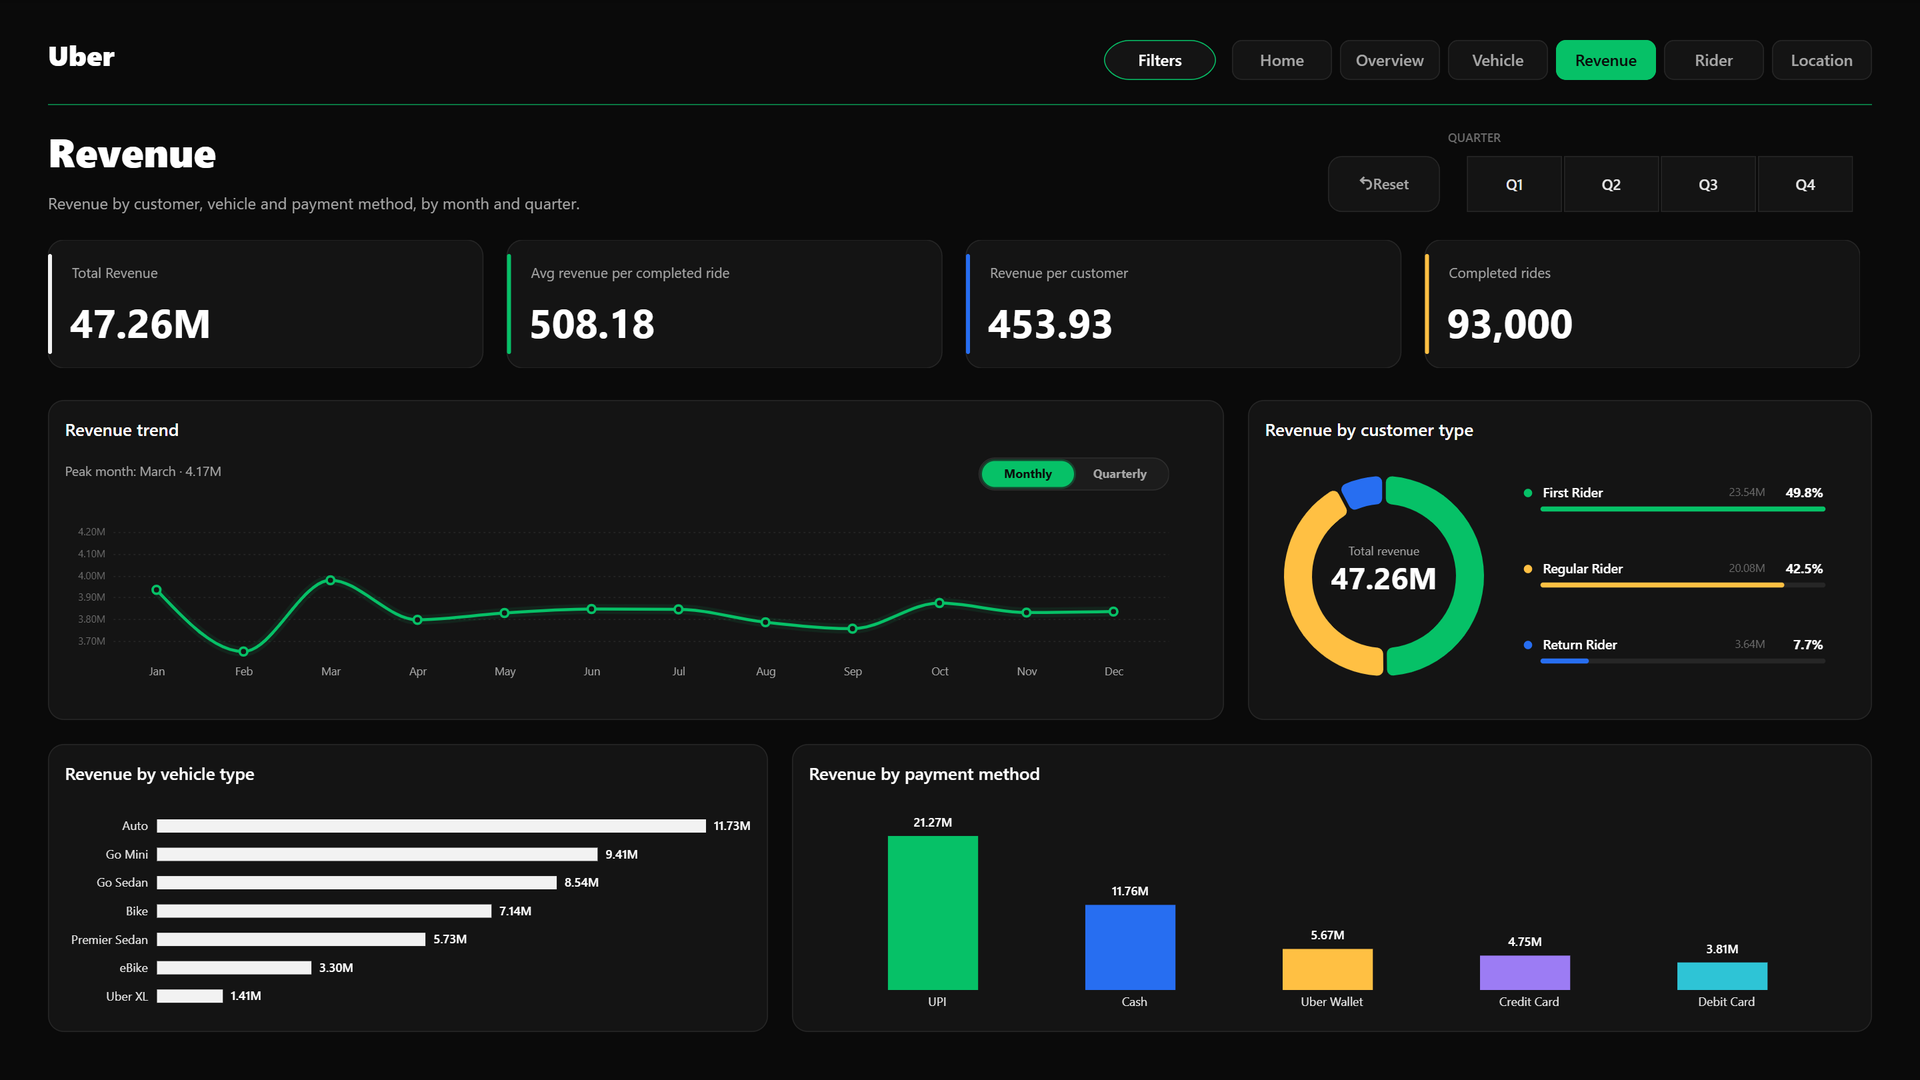

Layout of this report page (visuals, bound fields, positions):
{"tool":"powerbi","page":{"name":"Revenue","canvas":[1920,1080],"ordinal":3},"visuals":[{"type":"textbox","box":[48,36,200,48],"z":100},{"type":"actionButton","box":[1232,40,100,40],"z":200},{"type":"actionButton","box":[1340,40,100,40],"z":300},{"type":"actionButton","box":[1448,40,100,40],"z":400},{"type":"actionButton","box":[1556,40,100,40],"z":500},{"type":"actionButton","box":[1664,40,100,40],"z":600},{"type":"actionButton","box":[1772,40,100,40],"z":700},{"type":"shape","box":[48,104,1824,1],"z":800},{"type":"textbox","box":[48,124,640,68],"z":900},{"type":"textbox","box":[48,192,640,28],"z":1000},{"type":"actionButton","box":[1328,156,112,56],"z":1100},{"type":"textbox","box":[1448,128,300,24],"z":1200},{"type":"slicer","fields":{"Values":["Dim_Date.Quarter"]},"box":[1448,156,424,56],"z":1300},{"type":"deneb7E15AEF80B9E4D4F8E12924291ECE89A","fields":{"dataset":["# Measures.Revenue","# Measures.Completed Bookings","# Measures.Total Customers"]},"box":[48,240,1824,136],"z":1400},{"type":"deneb7E15AEF80B9E4D4F8E12924291ECE89A","title":"Revenue trend","fields":{"dataset":["Dim_Date.Month Name","Dim_Date.Month Number","Dim_Date.Quarter","# Measures.Revenue"]},"box":[48,400,1176,320],"z":1500},{"type":"deneb7E15AEF80B9E4D4F8E12924291ECE89A","title":"Revenue by customer type","fields":{"dataset":["Dim_Customer.Customer Type","# Measures.Revenue"]},"box":[1248,400,624,320],"z":1600},{"type":"clusteredBarChart","title":"Revenue by vehicle type","fields":{"Category":["Dim_Vehicle.Vehicle Type"],"Y":["# Measures.Revenue"]},"box":[48,744,720,288],"z":1700},{"type":"clusteredColumnChart","title":"Revenue by payment method","fields":{"Category":["Dim_Payment.Payment Method"],"Y":["# Measures.Revenue"]},"box":[792,744,1080,288],"z":1800},{"type":"actionButton","box":[1104,40,112,40],"z":90010}]}

Visuals, with their boxes in screenshot pixels (x1, y1, x2, y2), scaled from the page's 1920x1080 canvas onto the 1920x1080 screenshot:
textbox: 48:36:248:84
actionButton: 1232:40:1332:80
actionButton: 1340:40:1440:80
actionButton: 1448:40:1548:80
actionButton: 1556:40:1656:80
actionButton: 1664:40:1764:80
actionButton: 1772:40:1872:80
shape: 48:104:1872:105
textbox: 48:124:688:192
textbox: 48:192:688:220
actionButton: 1328:156:1440:212
textbox: 1448:128:1748:152
slicer - Dim_Date.Quarter: 1448:156:1872:212
deneb7E15AEF80B9E4D4F8E12924291ECE89A - # Measures.Revenue x # Measures.Completed Bookings: 48:240:1872:376
"Revenue trend" deneb7E15AEF80B9E4D4F8E12924291ECE89A: 48:400:1224:720
"Revenue by customer type" deneb7E15AEF80B9E4D4F8E12924291ECE89A: 1248:400:1872:720
"Revenue by vehicle type" clusteredBarChart: 48:744:768:1032
"Revenue by payment method" clusteredColumnChart: 792:744:1872:1032
actionButton: 1104:40:1216:80
